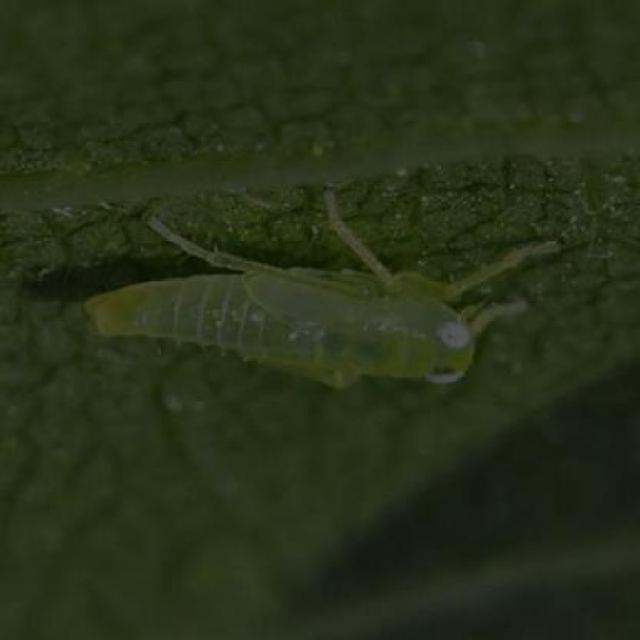green-leafhopper: (86, 239, 509, 390)
